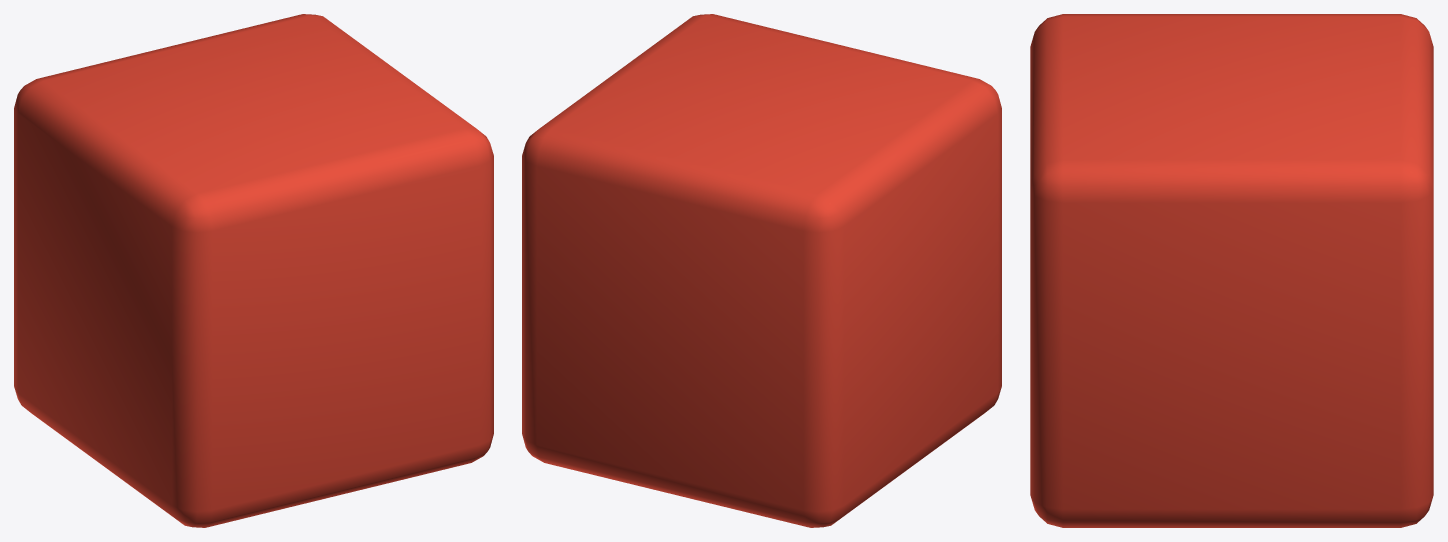
File: CubeRed.fbx
The picture shows the model from 3 angles, left to right: view 1: azimuth 30°, elevation 25°; view 2: azimuth 150°, elevation 25°; view 3: azimuth 270°, elevation 25°; orthographic projection. The views are drawn at different scales.
Parts seen in each view (by area): view 1: CubeRed; view 2: CubeRed; view 3: CubeRed.
Part boxes in pixels (left/top/right/bottom): CubeRed: left=14, top=14, right=493, bottom=527; CubeRed: left=522, top=14, right=1001, bottom=527; CubeRed: left=1030, top=14, right=1433, bottom=527.
Size of the model in its own units: 100 by 100 by 100.
